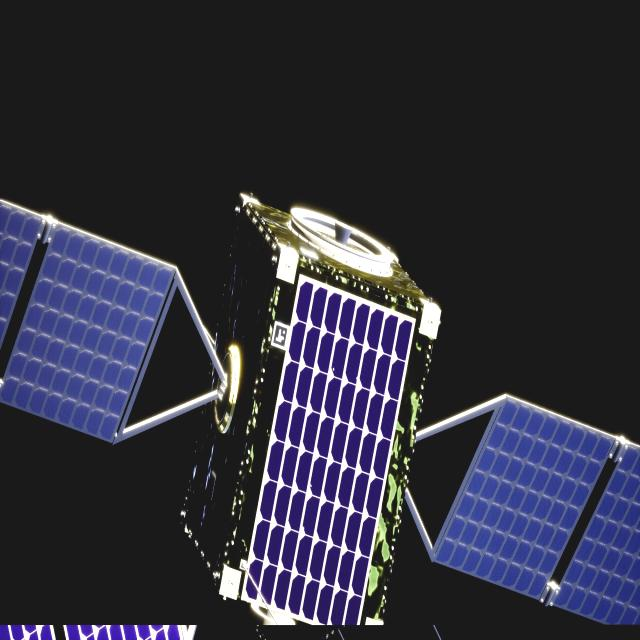medium_debris: (0, 192, 640, 629)
